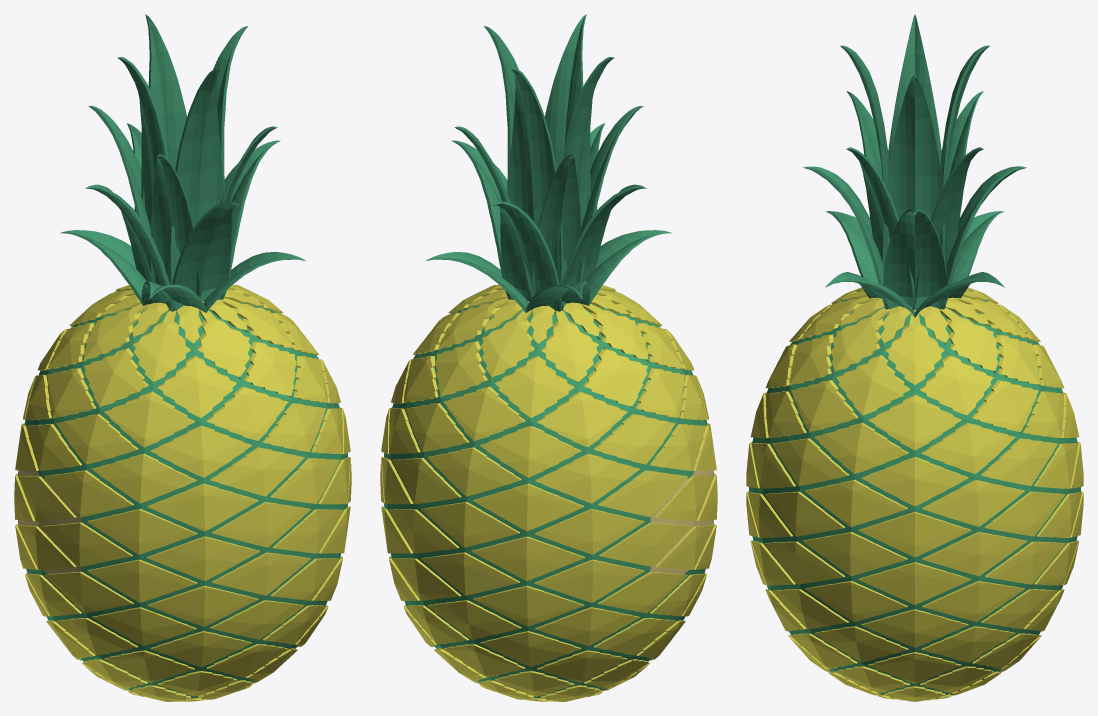
Rendered from pineapple_1.glb.
The picture shows the model from 3 angles, left to right: view 1: azimuth 30°, elevation 25°; view 2: azimuth 150°, elevation 25°; view 3: azimuth 270°, elevation 25°; orthographic projection.
Visible parts, largest first — view 1: Mesh_Mesh_head_geo.001_lambert2SG.001; view 2: Mesh_Mesh_head_geo.001_lambert2SG.001; view 3: Mesh_Mesh_head_geo.001_lambert2SG.001.
Part boxes in pixels (x1,y1,x2,y2): Mesh_Mesh_head_geo.001_lambert2SG.001: [14, 14, 351, 701]; Mesh_Mesh_head_geo.001_lambert2SG.001: [380, 14, 717, 701]; Mesh_Mesh_head_geo.001_lambert2SG.001: [746, 14, 1083, 701].
Bounding box in the file's own units: 4.9 × 10.15 × 4.9.
